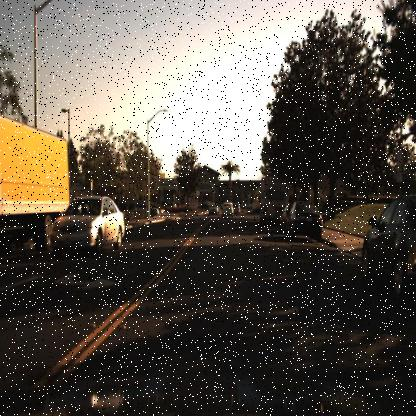car: (357, 194, 416, 306), (51, 196, 124, 260), (286, 200, 323, 250), (130, 201, 161, 222), (222, 199, 237, 220), (209, 197, 220, 221)
truck: (0, 115, 68, 260), (256, 177, 293, 228)
